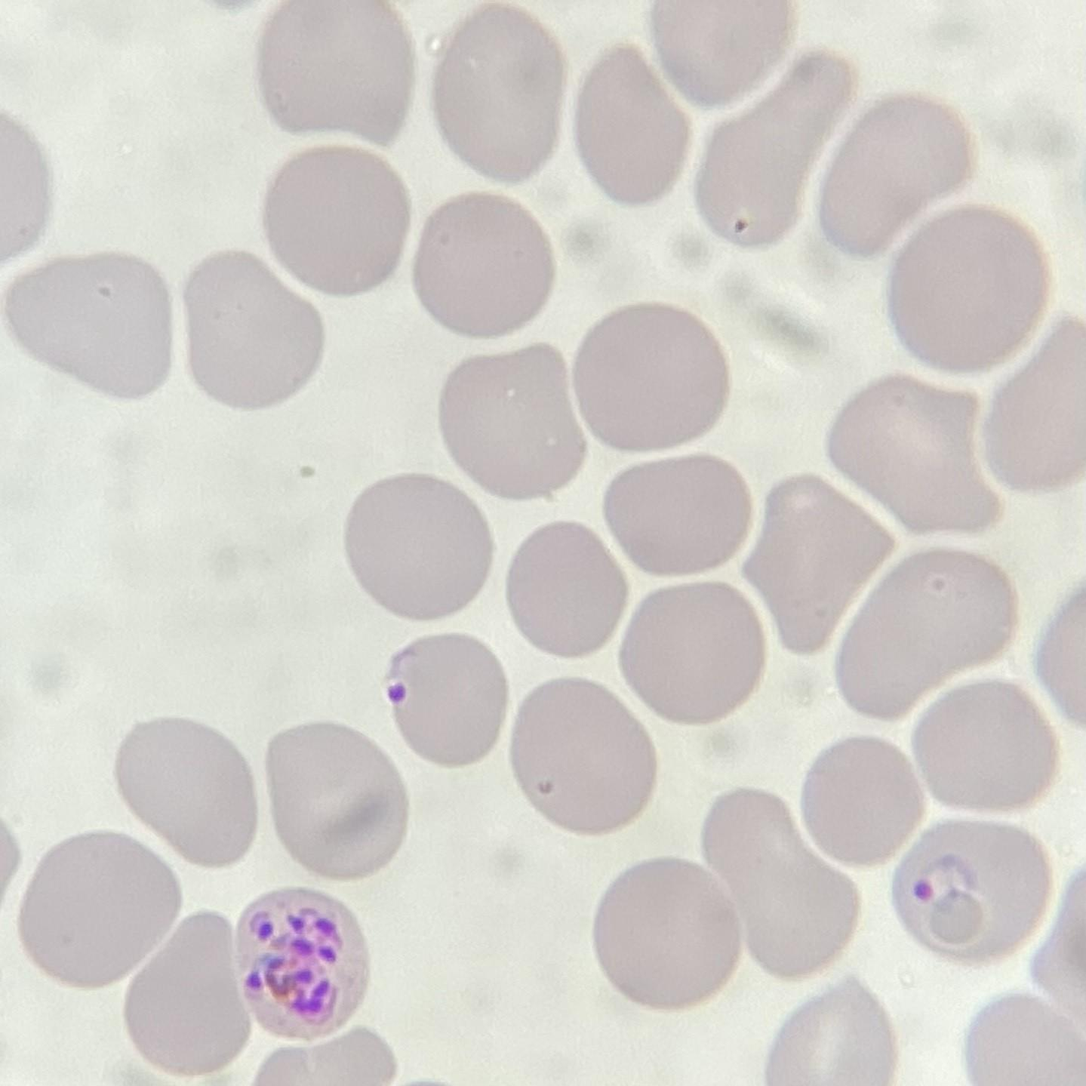Infected: (891, 819, 1051, 963), (232, 889, 370, 1045), (383, 634, 506, 768)
Uninfected: (685, 49, 851, 246), (698, 785, 862, 983), (832, 551, 1020, 719), (830, 376, 1005, 538), (740, 476, 892, 652), (19, 834, 184, 989), (891, 212, 1048, 373), (432, 0, 569, 184), (817, 95, 975, 252), (15, 253, 177, 399), (268, 719, 411, 883), (509, 678, 658, 835), (435, 345, 583, 501), (575, 302, 728, 452), (594, 853, 743, 1007), (345, 470, 495, 622), (113, 721, 263, 873), (187, 249, 325, 412), (262, 148, 411, 296), (260, 0, 414, 141), (411, 193, 560, 338), (128, 908, 254, 1079), (571, 40, 696, 209), (619, 587, 764, 722), (917, 680, 1061, 811), (606, 453, 756, 578), (502, 521, 626, 661), (798, 736, 928, 862), (651, 0, 798, 111), (989, 329, 1086, 495), (768, 978, 895, 1086)
